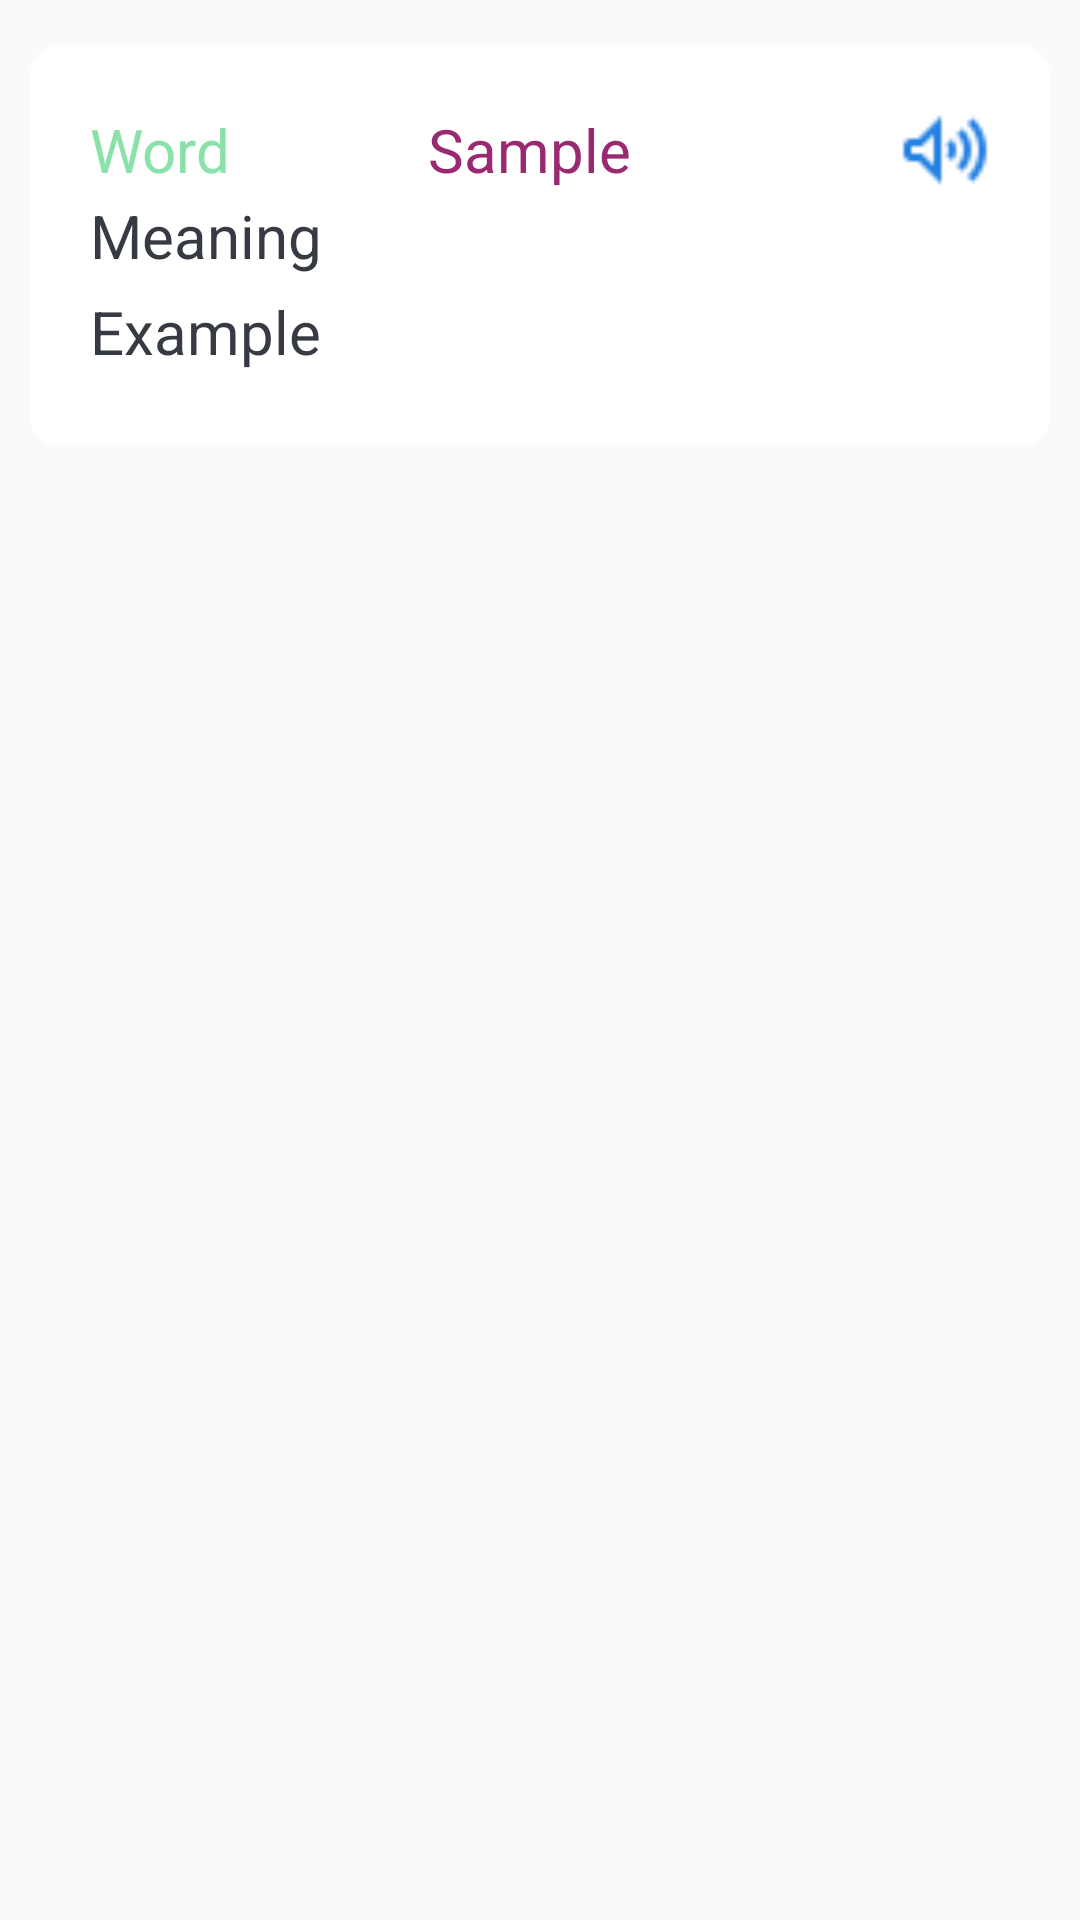

Named icons in this screenshot (1080w x 1920h) and their centers, (x,y):
voi: (945,150)
